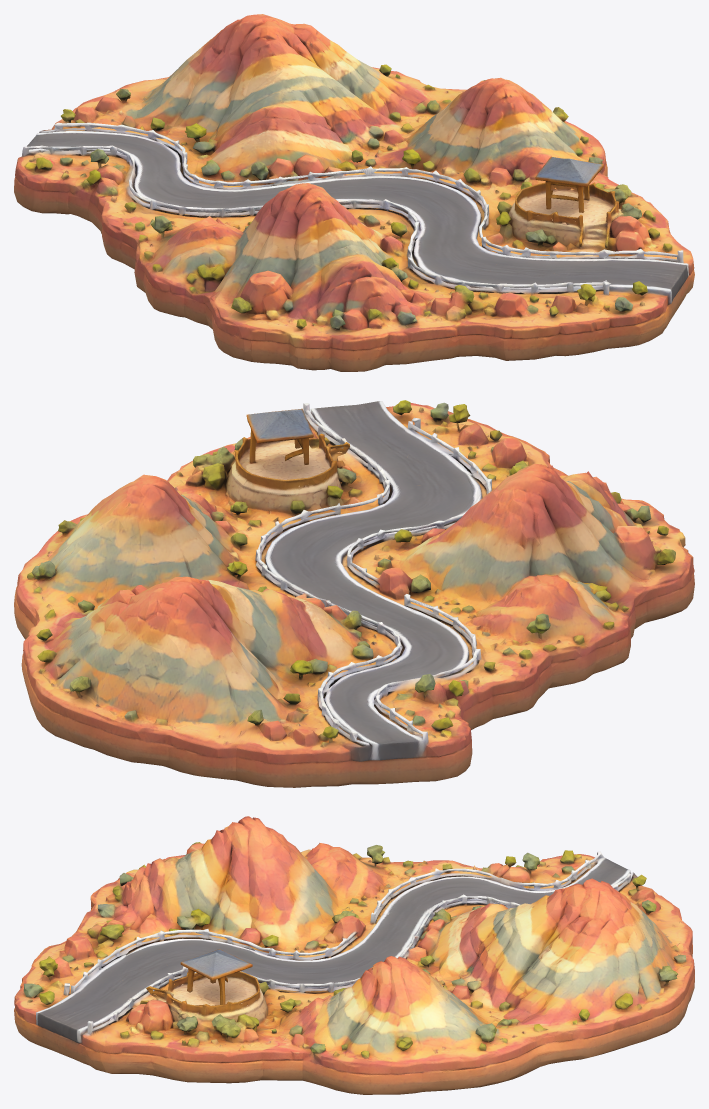
3 views of the same model, one above another, from view 1: azimuth 30°, elevation 25°; view 2: azimuth 150°, elevation 25°; view 3: azimuth 270°, elevation 25° (orthographic). The views are drawn at different scales.
Visible parts, largest first — view 1: model; view 2: model; view 3: model.
Boxes of the visible parts, left/top/right/bottom form: model: left=14, top=14, right=694, bottom=371; model: left=14, top=400, right=694, bottom=787; model: left=14, top=816, right=694, bottom=1094.
Size of the model in its own units: 1.43 by 0.3432 by 1.89.
1 material, 1 textured.
